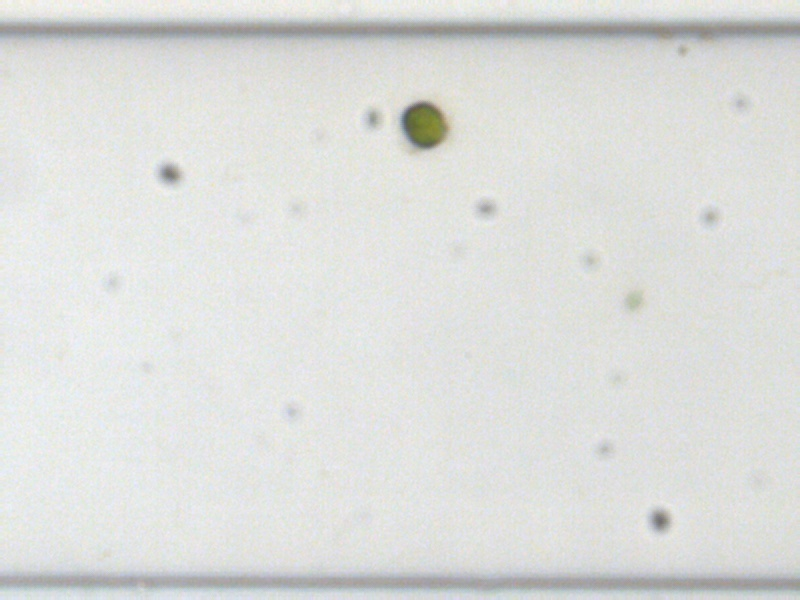Chlorella: (623, 286, 642, 309)
Platymonas: (396, 98, 451, 152)
